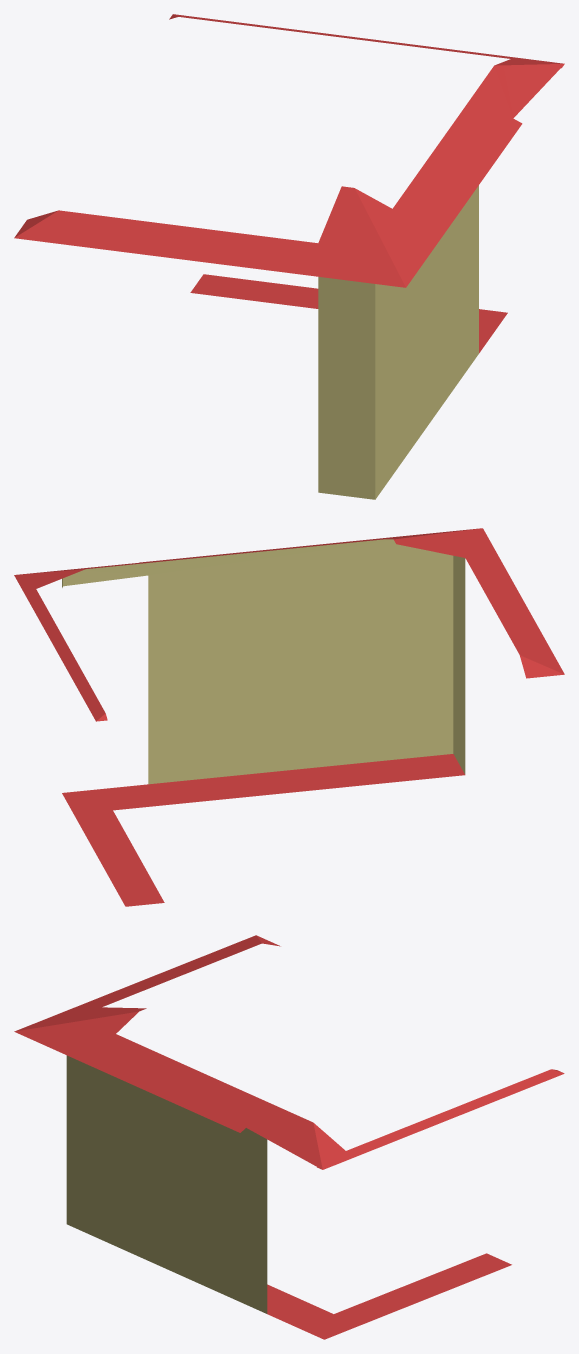
3 renders of one model, top to bottom at view 1: azimuth 30°, elevation 25°; view 2: azimuth 150°, elevation 25°; view 3: azimuth 270°, elevation 25°, orthographic. The views are drawn at different scales.
Size of the model in its own units: 14.96 by 14.83 by 6.6.
